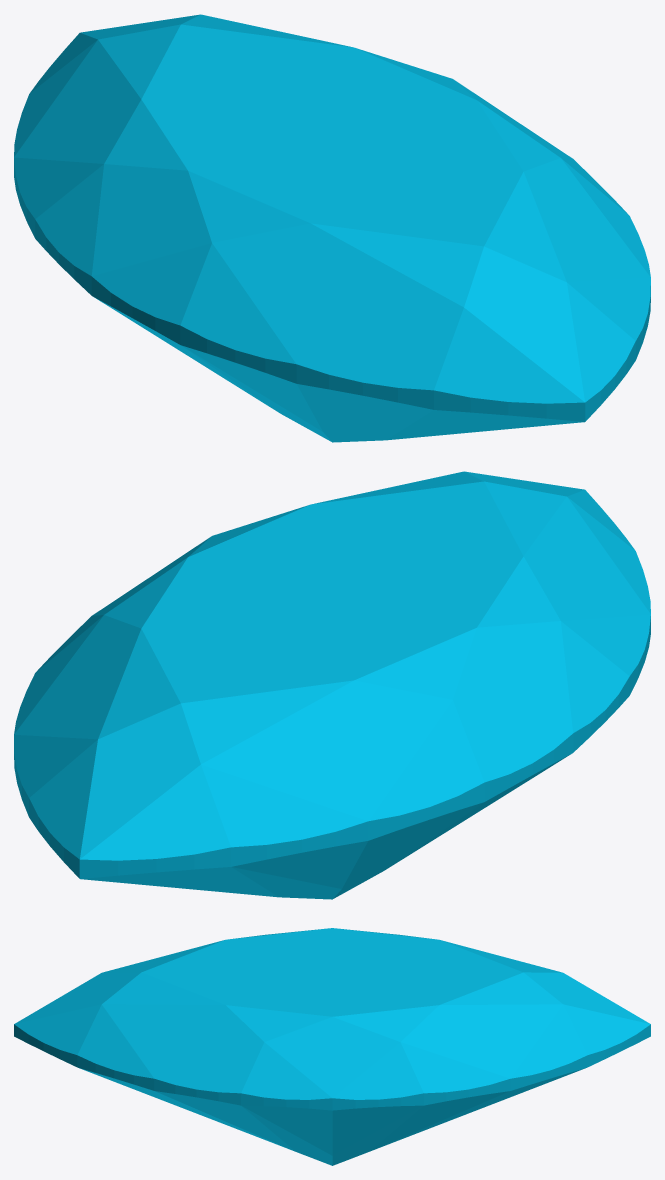
File: Head_No Halo_Marquise_0.75ct_Diamond.glb
3 views of the same model, one above another, from view 1: azimuth 30°, elevation 25°; view 2: azimuth 150°, elevation 25°; view 3: azimuth 270°, elevation 25° (orthographic). The views are drawn at different scales.
Size of the model in its own units: 0.00482 by 0.00294 by 0.00877.
